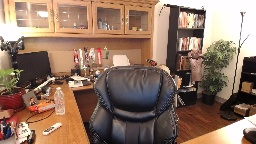Pugno: (186, 48, 206, 66)
